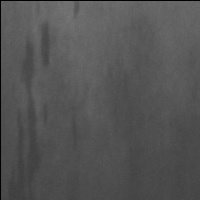inclusion: (10, 33, 41, 200), (36, 13, 57, 73), (67, 112, 81, 149)
